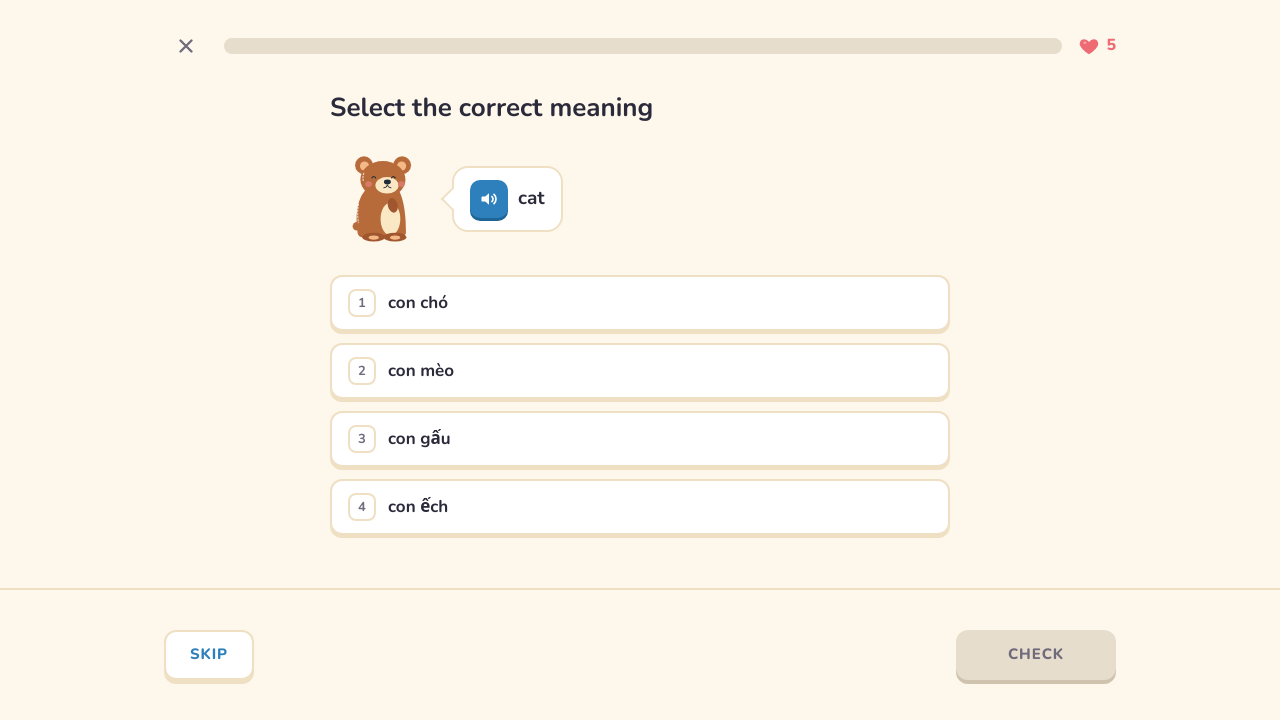
it: LessonPlayer › shows the correct answer after a mistake and supports number keys
The width and height of the screenshot is (1280, 720).
Type keys "1"
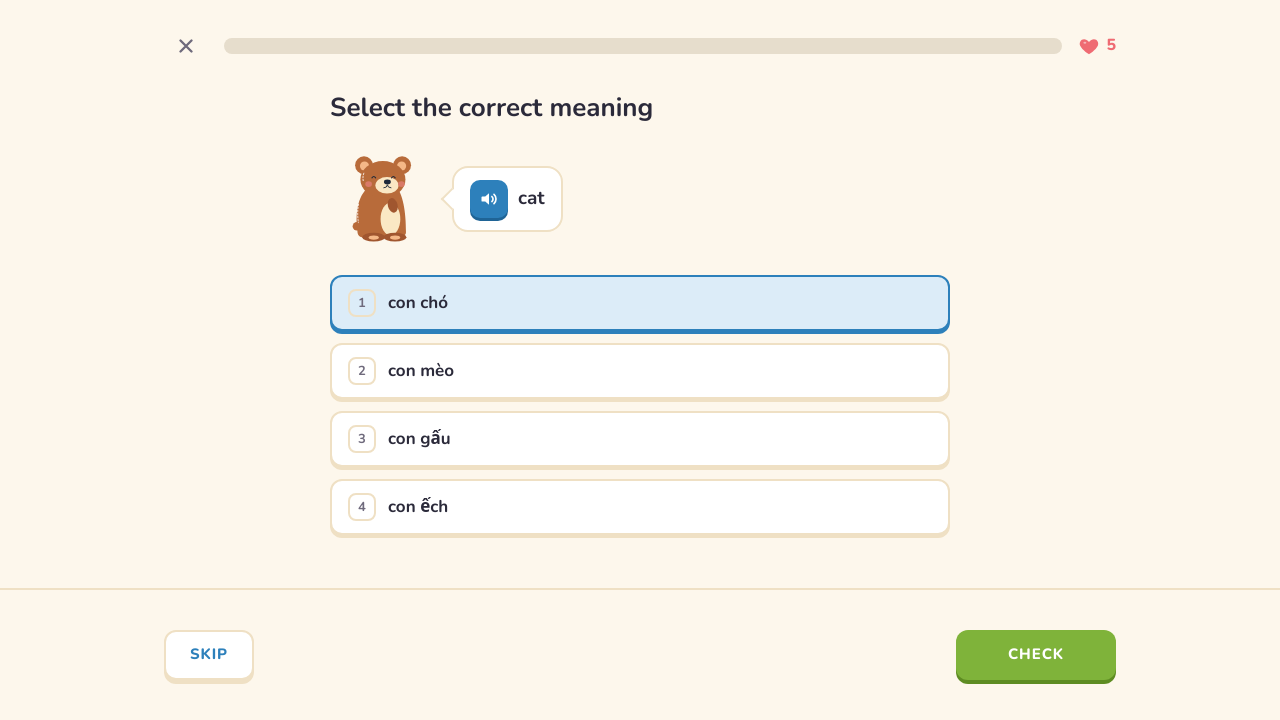
Click the button "Check" at x=1036, y=655, box x1=956 y1=630 x2=1116 y2=680
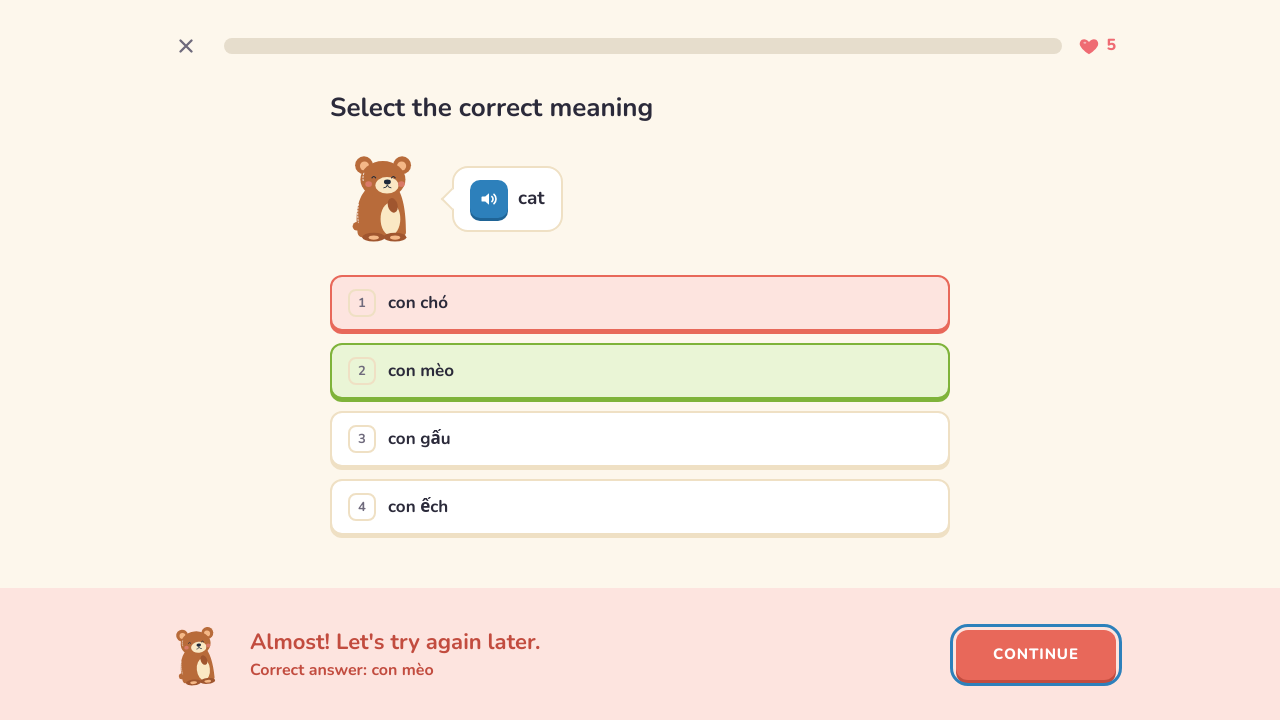
expect the text "Correct answer: con mèo" is shown: met, box x1=250 y1=659 x2=434 y2=681
